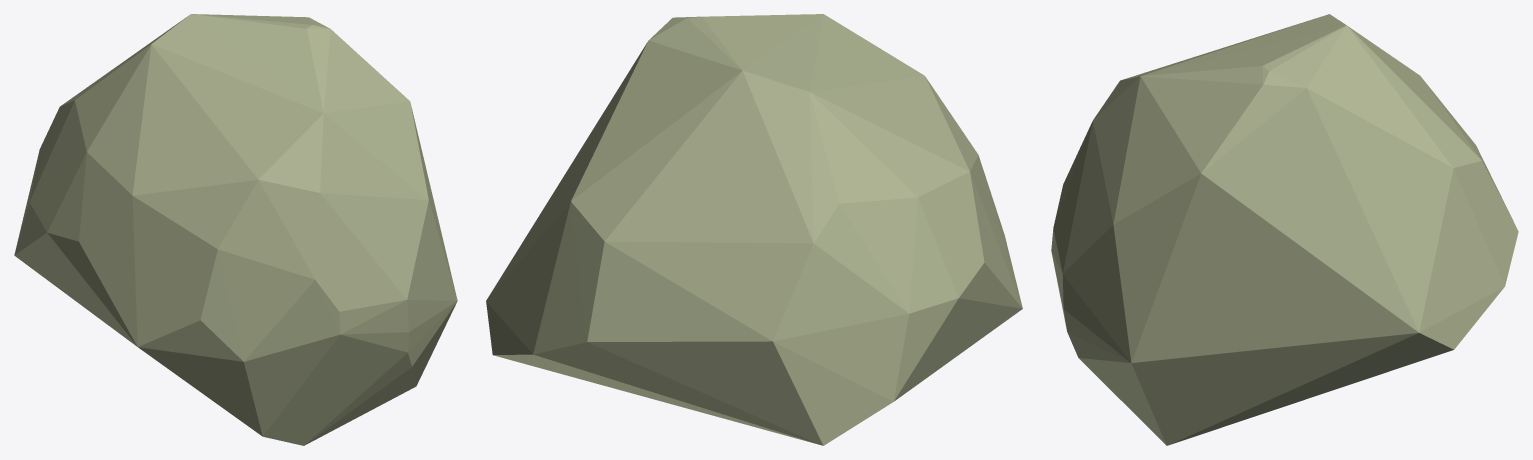
File: food_produce_pear_h01.glb
The picture shows the model from 3 angles, left to right: view 1: azimuth 30°, elevation 25°; view 2: azimuth 150°, elevation 25°; view 3: azimuth 270°, elevation 25°; orthographic projection. The views are drawn at different scales.
Visible parts, largest first — view 1: geometry_0; view 2: geometry_0; view 3: geometry_0.
Boxes of the visible parts, bbox=[...] form: geometry_0: bbox=[14, 14, 457, 445]; geometry_0: bbox=[486, 14, 1022, 445]; geometry_0: bbox=[1051, 14, 1518, 445].
Size of the model in its own units: 0.2469 by 0.2355 by 0.2838.
